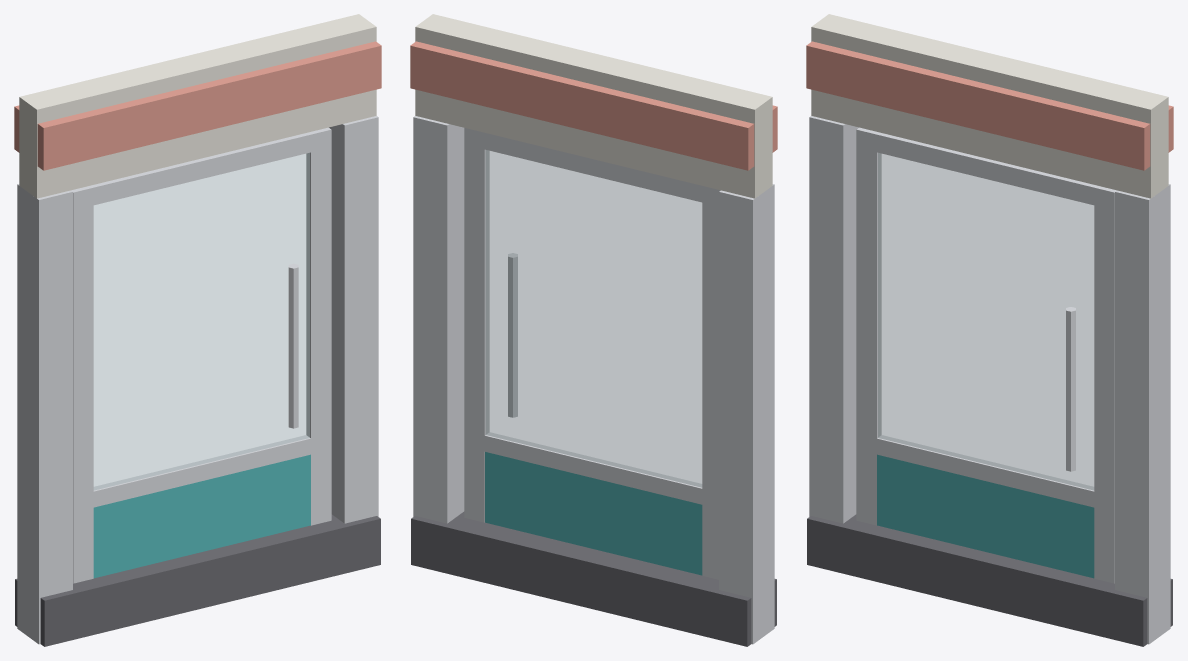
The model's file is retro-diner-and-roadside-motel-diner-glazed-door-6e8d87b7__37319.glb.
The picture shows the model from 3 angles, left to right: view 1: azimuth 30°, elevation 25°; view 2: azimuth 150°, elevation 25°; view 3: azimuth 330°, elevation 25°; orthographic projection.
Visible parts, largest first — view 1: door/glass, diner-glazed-door-chrome, door/chrome, diner-glazed-door-cream, diner-glazed-door-asphalt, diner-glazed-door-coral, door/turquoise; view 2: door/glass, diner-glazed-door-chrome, door/chrome, diner-glazed-door-cream, diner-glazed-door-asphalt, diner-glazed-door-coral, door/turquoise; view 3: door/glass, diner-glazed-door-chrome, door/chrome, diner-glazed-door-cream, diner-glazed-door-asphalt, diner-glazed-door-coral, door/turquoise.
Part boxes in pixels (x1=…): door/glass: x1=94, y1=153, x2=309, y2=490; diner-glazed-door-chrome: x1=17, y1=116, x2=378, y2=644; door/chrome: x1=71, y1=127, x2=331, y2=583; diner-glazed-door-cream: x1=19, y1=14, x2=376, y2=198; diner-glazed-door-asphalt: x1=15, y1=514, x2=380, y2=646; diner-glazed-door-coral: x1=14, y1=41, x2=381, y2=170; door/turquoise: x1=93, y1=454, x2=310, y2=578; door/glass: x1=486, y1=150, x2=701, y2=487; diner-glazed-door-chrome: x1=413, y1=116, x2=774, y2=644; door/chrome: x1=464, y1=128, x2=720, y2=579; diner-glazed-door-cream: x1=415, y1=14, x2=772, y2=198; diner-glazed-door-asphalt: x1=411, y1=511, x2=776, y2=646; diner-glazed-door-coral: x1=410, y1=41, x2=777, y2=170; door/turquoise: x1=485, y1=452, x2=702, y2=575; door/glass: x1=878, y1=153, x2=1093, y2=490; diner-glazed-door-chrome: x1=809, y1=116, x2=1170, y2=644; door/chrome: x1=856, y1=127, x2=1116, y2=583; diner-glazed-door-cream: x1=811, y1=14, x2=1168, y2=198; diner-glazed-door-asphalt: x1=807, y1=514, x2=1172, y2=646; diner-glazed-door-coral: x1=806, y1=41, x2=1173, y2=170; door/turquoise: x1=877, y1=454, x2=1094, y2=578.
Bounding box in the file's own units: 2 × 3 × 0.3.
